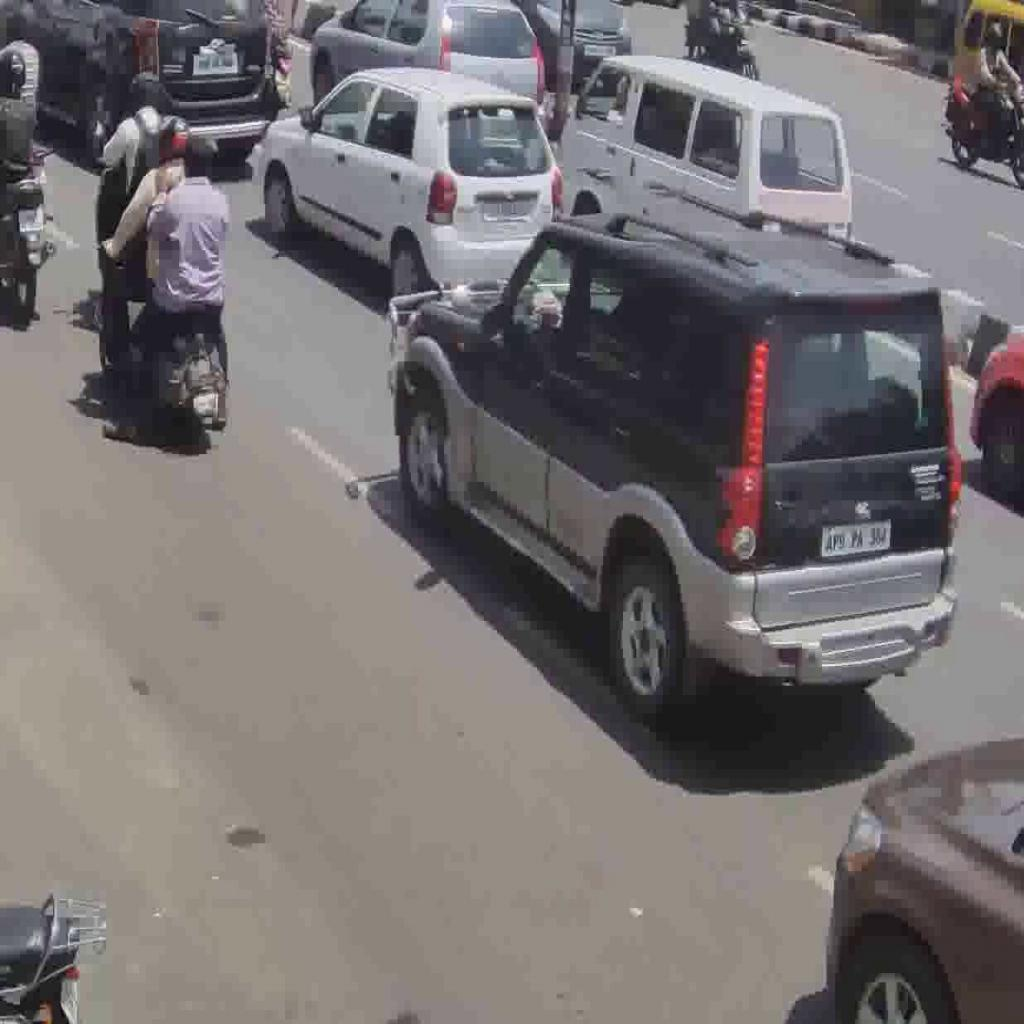helmet: (98, 206, 226, 450), (0, 169, 56, 322)
